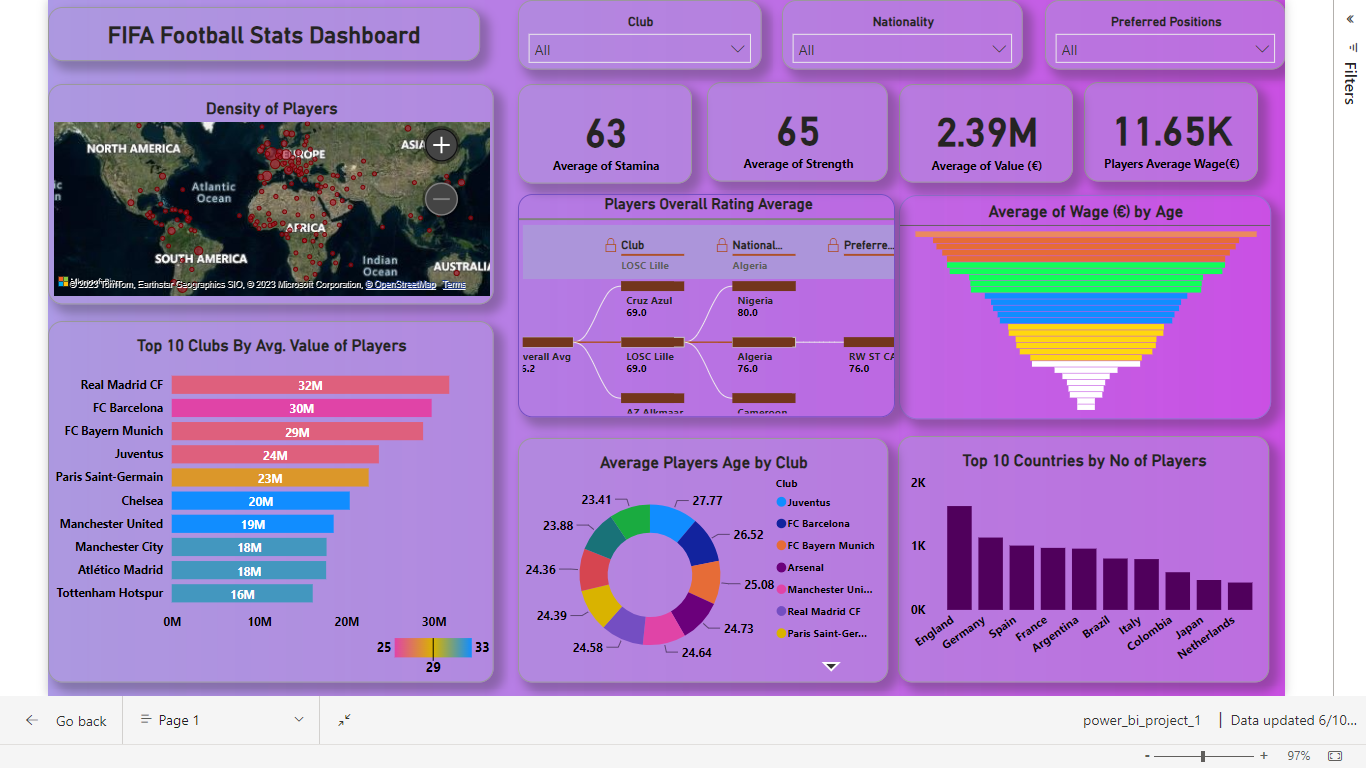

The dashboard page shown, as its layout file describes it:
{"tool":"powerbi","page":{"name":"Page 1","canvas":[1280,720],"ordinal":0},"visuals":[{"type":"textbox","box":[0,6.9,447.3,56.4],"z":0},{"type":"columnChart","title":"Top 10 Countries by No of Players","fields":{"Category":["fifa18_clean.Nationality"],"Y":["CountNonNull(fifa18_clean.Name)"]},"box":[879.5,451.4,384,254.6],"z":1000},{"type":"barChart","title":"Top 10 Clubs By Avg. Value of Players","fields":{"Category":["fifa18_clean.Club"],"Y":["Avg(fifa18_clean.Value (€))"]},"box":[0,331.7,461.1,374.4],"z":2000},{"type":"donutChart","title":"Average Players Age by Club","fields":{"Category":["fifa18_clean.Club"],"Y":["Avg(fifa18_clean.Age)"]},"box":[485.8,452.8,382.6,253.2],"z":3000},{"type":"map","title":"Density of Players","fields":{"Category":["fifa18_clean.Nationality"],"Size":["CountNonNull(fifa18_clean.Name)"]},"box":[0,86.7,461.1,228.5],"z":4000},{"type":"card","fields":{"Values":["Avg(fifa18_clean.Wage (€))"]},"box":[1072.2,85.3,180.3,103.2],"z":5000},{"type":"funnel","fields":{"Category":["fifa18_clean.Age"],"Y":["Avg(fifa18_clean.Wage (€))"]},"box":[880.2,201.6,384.7,231.8],"z":6000},{"type":"card","fields":{"Values":["Avg(fifa18_clean.Value (€))"]},"box":[880.2,87.3,179.7,102.5],"z":7000},{"type":"card","fields":{"Values":["Avg(fifa18_clean.Strength)"]},"box":[681.3,85.3,187.2,103.2],"z":8000},{"type":"card","fields":{"Values":["Avg(fifa18_clean.Stamina)"]},"box":[485.8,86.7,180.3,103.2],"z":9000},{"type":"decompositionTreeVisual","title":"Players Overall Rating Average","fields":{"Analyze":["Avg(fifa18_clean.Overall)"],"ExplainBy":["fifa18_clean.Club","fifa18_clean.Nationality","fifa18_clean.Preferred Positions"]},"box":[485.8,200.9,389.5,231.2],"z":10000},{"type":"slicer","title":"Club","fields":{"Values":["fifa18_clean.Club"]},"box":[485.8,0,251.9,71.6],"z":11000},{"type":"slicer","title":"Preferred Positions","fields":{"Values":["fifa18_clean.Preferred Positions"]},"box":[1030.9,0,249.1,71.6],"z":12000},{"type":"slicer","title":"Nationality","fields":{"Values":["fifa18_clean.Nationality"]},"box":[759.7,0,249.1,71.6],"z":13000}]}

Visuals, with their boxes on the page's 1280x720 design canvas (x1, y1, x2, y2). These are canvas units, not pixel positions in the 1366x768 screenshot, which may show the page scaled, cropped or inside an application window:
textbox: <region>0, 7, 447, 63</region>
"Top 10 Countries by No of Players" columnChart: <region>880, 451, 1264, 706</region>
"Top 10 Clubs By Avg. Value of Players" barChart: <region>0, 332, 461, 706</region>
"Average Players Age by Club" donutChart: <region>486, 453, 868, 706</region>
"Density of Players" map: <region>0, 87, 461, 315</region>
card - Avg(fifa18_clean.Wage (€)): <region>1072, 85, 1252, 188</region>
funnel - fifa18_clean.Age x Avg(fifa18_clean.Wage (€)): <region>880, 202, 1265, 433</region>
card - Avg(fifa18_clean.Value (€)): <region>880, 87, 1060, 190</region>
card - Avg(fifa18_clean.Strength): <region>681, 85, 868, 188</region>
card - Avg(fifa18_clean.Stamina): <region>486, 87, 666, 190</region>
"Players Overall Rating Average" decompositionTreeVisual: <region>486, 201, 875, 432</region>
"Club" slicer: <region>486, 0, 738, 72</region>
"Preferred Positions" slicer: <region>1031, 0, 1280, 72</region>
"Nationality" slicer: <region>760, 0, 1009, 72</region>
